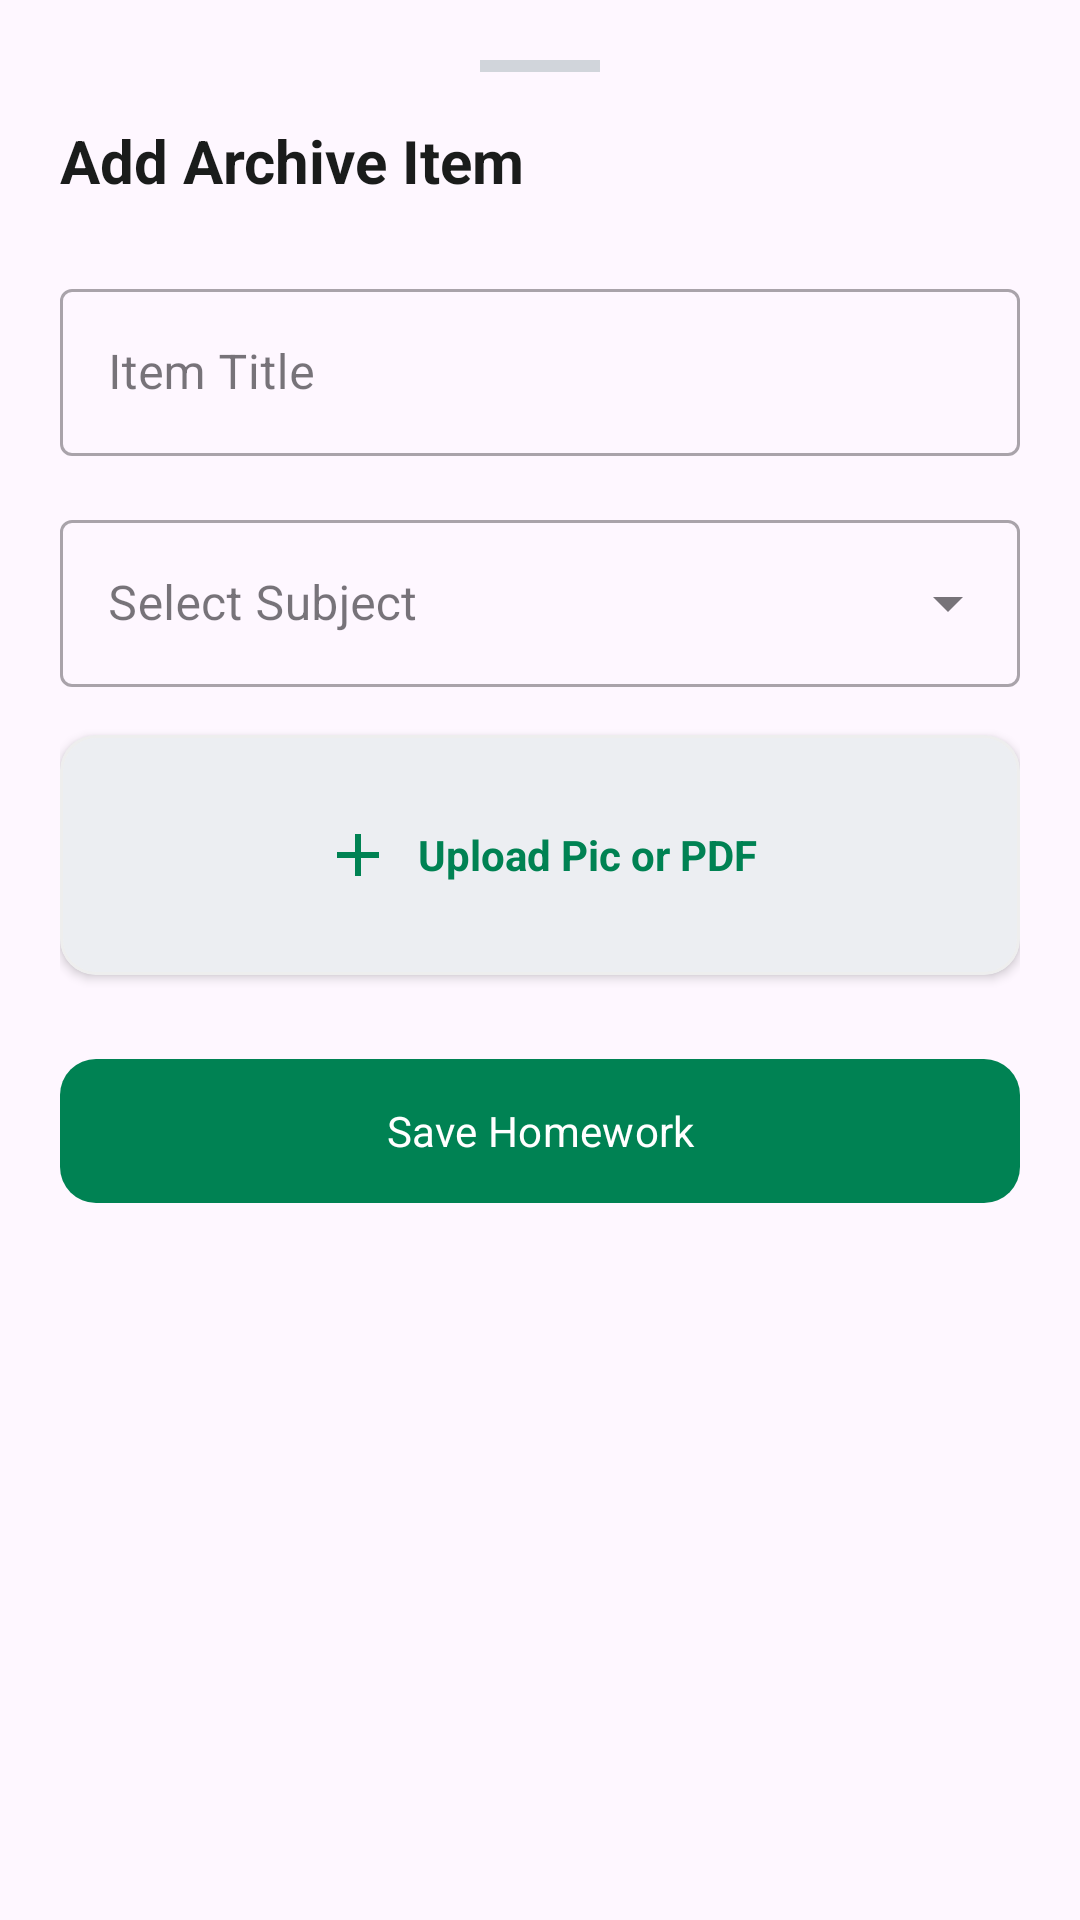

Named icons in this screenshot (1080w x 1920h) and their bounding boxes, bbox=(x1, y1, x2, y2):
add: bbox=(337, 834, 379, 876)
